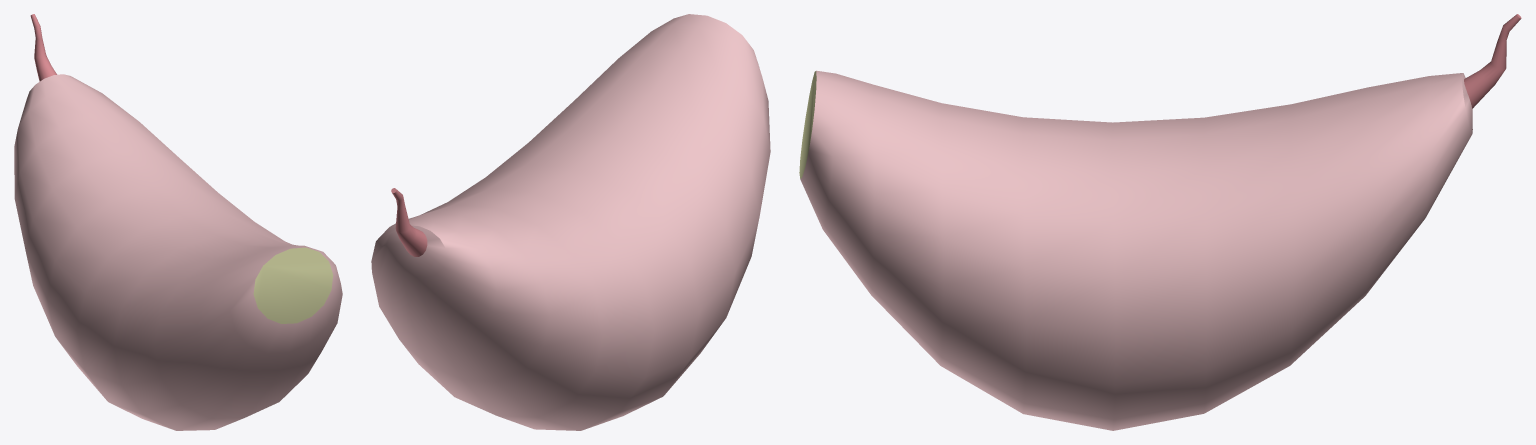
The model's file is Garlic.fbx.
The picture shows the model from 3 angles, left to right: view 1: azimuth 30°, elevation 25°; view 2: azimuth 150°, elevation 25°; view 3: azimuth 270°, elevation 25°; orthographic projection. The views are drawn at different scales.
Parts seen in each view (by area): view 1: Garlic; view 2: Garlic; view 3: Garlic.
Part boxes in pixels (x1=…): Garlic: x1=14, y1=14, x2=342, y2=430; Garlic: x1=371, y1=14, x2=770, y2=430; Garlic: x1=799, y1=14, x2=1521, y2=430.
Bounding box in the file's own units: 0.1453 × 0.198 × 0.3223.
